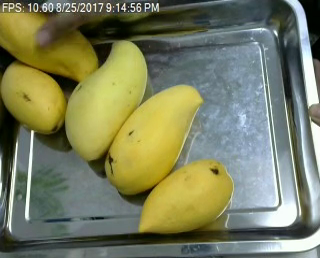Mango: (103, 80, 208, 194), (60, 41, 152, 161), (134, 158, 239, 240), (0, 0, 104, 81), (0, 55, 66, 132)
